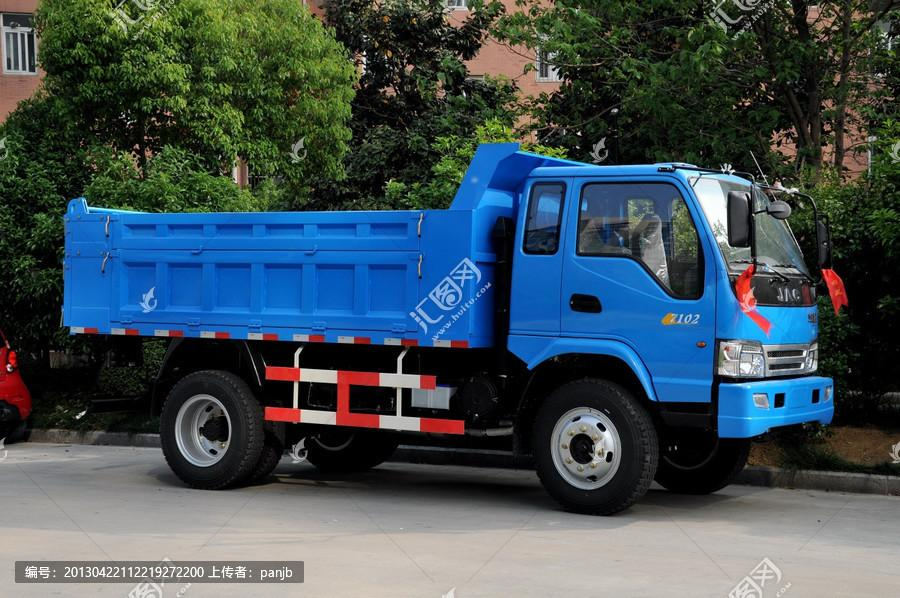truck: (42, 107, 845, 516)
